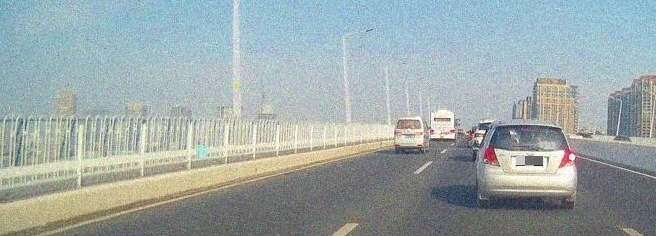L_light: (482, 147, 500, 167), (395, 131, 402, 134), (430, 129, 435, 132)
R_light: (558, 148, 576, 168), (416, 131, 423, 135), (450, 129, 455, 133)
T_light: (522, 126, 537, 129), (406, 119, 412, 122), (440, 112, 445, 114)
day-no: (394, 117, 424, 154), (430, 109, 455, 141)
day-right: (479, 119, 577, 208)
plate_1: (516, 156, 544, 166)
